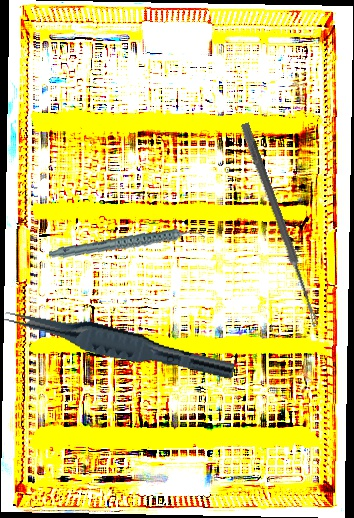Handpiece: (48, 218, 206, 272)
Surgical Spoon: (239, 122, 322, 328)
Tissue Forceps: (1, 303, 238, 382)
